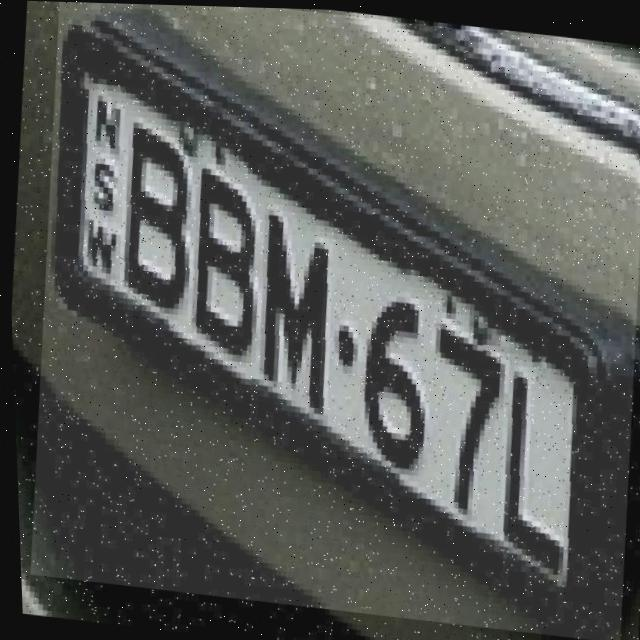LicensePlate: (9, 0, 640, 640)
